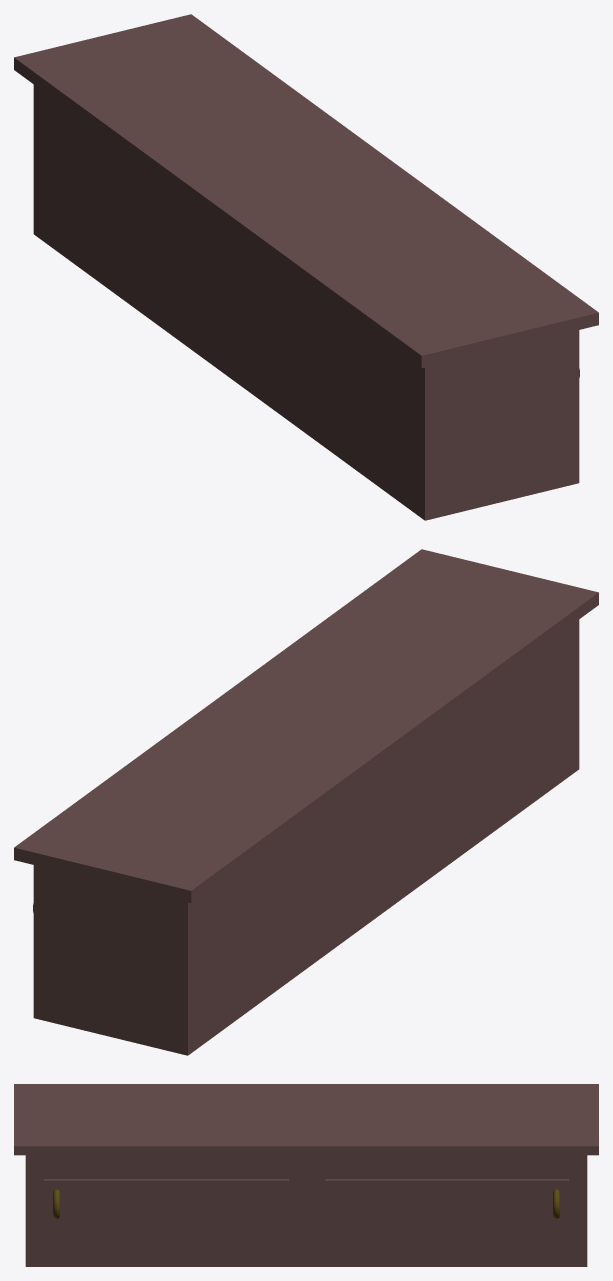
Rendered from drawer_s.fbx.
The picture shows the model from 3 angles, top to bottom: view 1: azimuth 30°, elevation 25°; view 2: azimuth 150°, elevation 25°; view 3: azimuth 270°, elevation 25°; orthographic projection. The views are drawn at different scales.
Parts seen in each view (by area): view 1: Cube.001; view 2: Cube.001; view 3: Cube.001.
Part boxes in pixels (bbox=[...]): Cube.001: bbox=[14, 14, 598, 520]; Cube.001: bbox=[14, 549, 598, 1055]; Cube.001: bbox=[14, 1084, 598, 1266].
Bounding box in the file's own units: 171 × 152 × 645.
